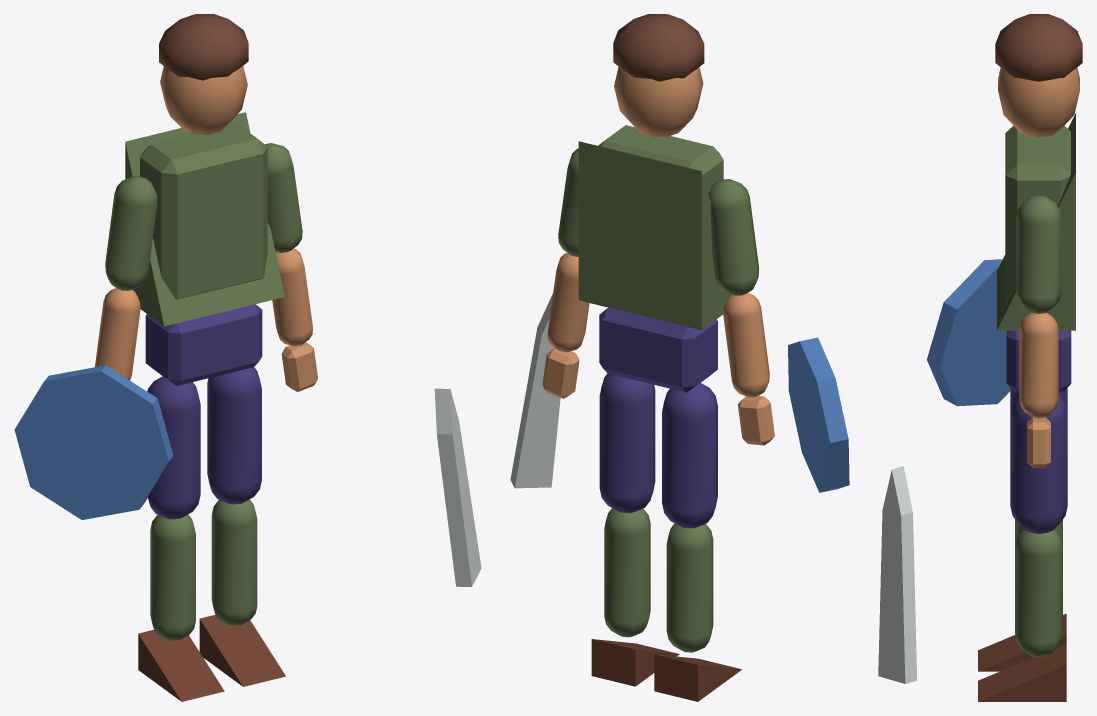
File: adventurer.rustic.glb
3 renders of one model, left to right at view 1: azimuth 30°, elevation 25°; view 2: azimuth 150°, elevation 25°; view 3: azimuth 270°, elevation 25°, orthographic.
Visible parts, largest first — view 1: accessory.off-hand, torso, pelvis, thigh.right, tunic, shin.right, shin.left, thigh.left, accessory.main-hand, hair, upper-arm.left, head (+6 smaller); view 2: tunic, pelvis, thigh.left, thigh.right, accessory.off-hand, shin.left, shin.right, hair, accessory.main-hand, upper-arm.left, head, forearm.left (+7 smaller); view 3: accessory.off-hand, accessory.main-hand, shin.right, thigh.right, torso, upper-arm.right, hair, head, tunic, forearm.right, foot.right, pelvis (+2 smaller).
Part boxes in pixels (box(x1,y1,x2,y2)): accessory.off-hand: box(14, 365, 173, 519); torso: box(140, 123, 267, 299); pelvis: box(145, 304, 262, 385); thigh.right: box(207, 367, 261, 504); tunic: box(125, 112, 284, 326); shin.right: box(211, 499, 257, 626); shin.left: box(150, 514, 195, 641); thigh.left: box(147, 376, 200, 519); accessory.main-hand: box(434, 388, 481, 586); hair: box(159, 14, 248, 80); upper-arm.left: box(105, 176, 157, 290); head: box(160, 66, 247, 134); tunic: box(578, 141, 731, 330); pelvis: box(599, 307, 717, 392); thigh.left: box(662, 383, 717, 528); thigh.right: box(599, 373, 655, 513); accessory.off-hand: box(788, 337, 849, 492); shin.left: box(666, 523, 713, 652); shin.right: box(604, 508, 650, 637); hair: box(613, 14, 704, 81); accessory.main-hand: box(510, 293, 560, 488); upper-arm.left: box(708, 179, 759, 295); head: box(614, 67, 703, 137); forearm.left: box(723, 293, 769, 397); accessory.off-hand: box(927, 259, 1010, 406); accessory.main-hand: box(878, 466, 917, 683); shin.right: box(1015, 530, 1062, 657); thigh.right: box(1010, 396, 1067, 533); torso: box(1005, 126, 1070, 302); upper-arm.right: box(1016, 195, 1061, 313); hair: box(995, 14, 1082, 81); head: box(998, 67, 1079, 137); tunic: box(997, 113, 1075, 330); forearm.right: box(1019, 312, 1058, 418); foot.right: box(978, 644, 1066, 701); pelvis: box(1006, 330, 1071, 392).
Size of the model in its own units: 1.95 by 3.03 by 0.854.
